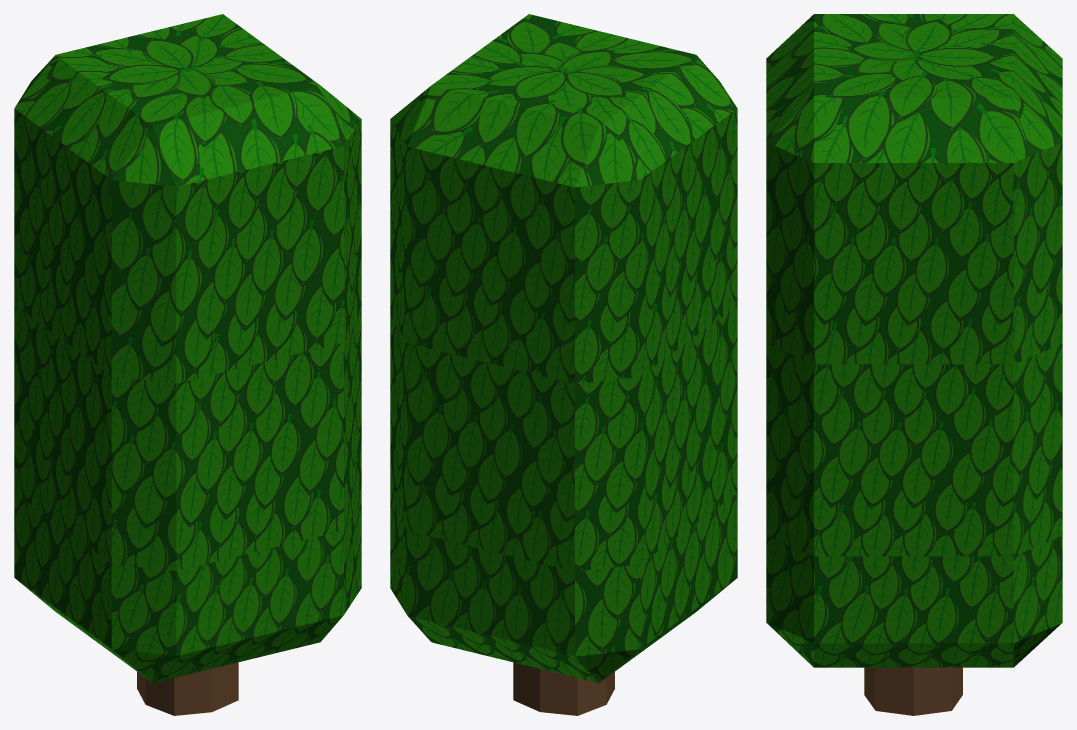
File: tree2-3.fbx
3 renders of one model, left to right at view 1: azimuth 30°, elevation 25°; view 2: azimuth 150°, elevation 25°; view 3: azimuth 270°, elevation 25°, orthographic. The views are drawn at different scales.
Parts seen in each view (by area): view 1: Cube.001, Cube; view 2: Cube.001, Cube; view 3: Cube.001, Cube.
Part boxes in pixels (x1=…): Cube.001: x1=14, y1=14, x2=361, y2=682; Cube: x1=137, y1=662, x2=238, y2=715; Cube.001: x1=390, y1=14, x2=737, y2=682; Cube: x1=513, y1=662, x2=614, y2=715; Cube.001: x1=766, y1=14, x2=1062, y2=667; Cube: x1=864, y1=667, x2=962, y2=715.
Bounding box in the file's own units: 414 × 988 × 415.
1 material, 1 textured.
